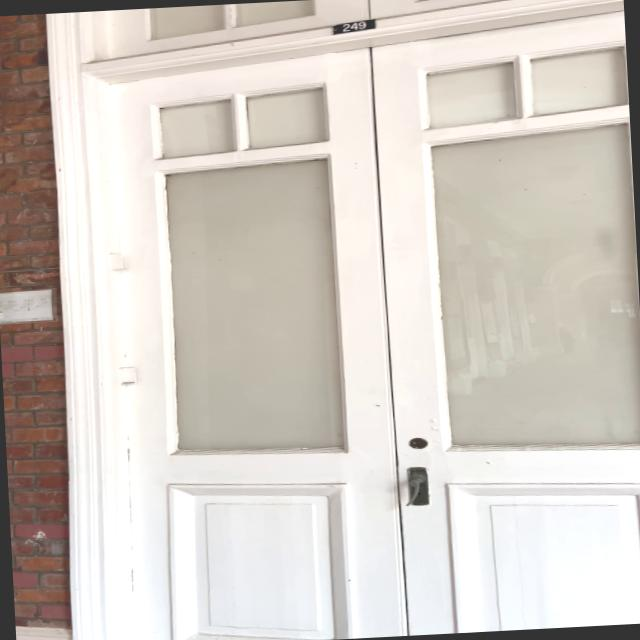room249: (328, 16, 382, 38)
